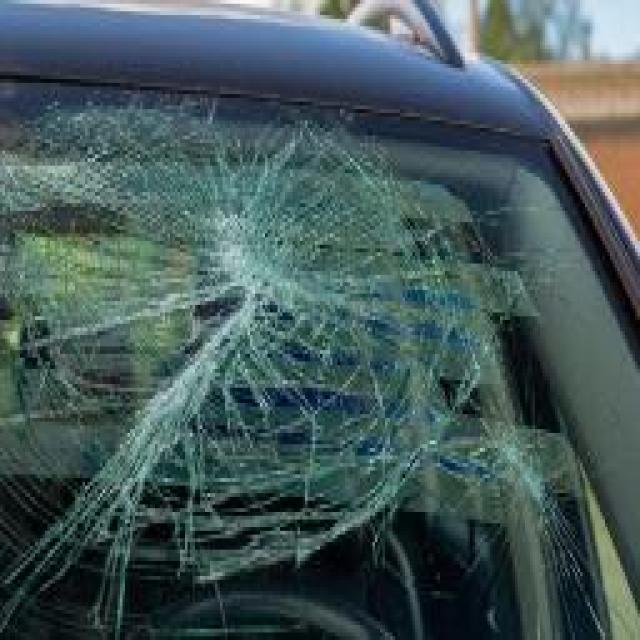Windshield: (0, 78, 640, 639)
